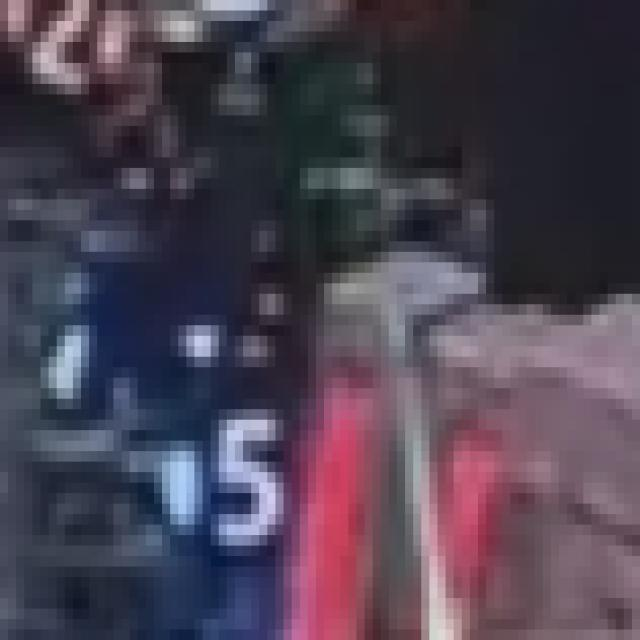B5: (170, 388, 308, 556)
